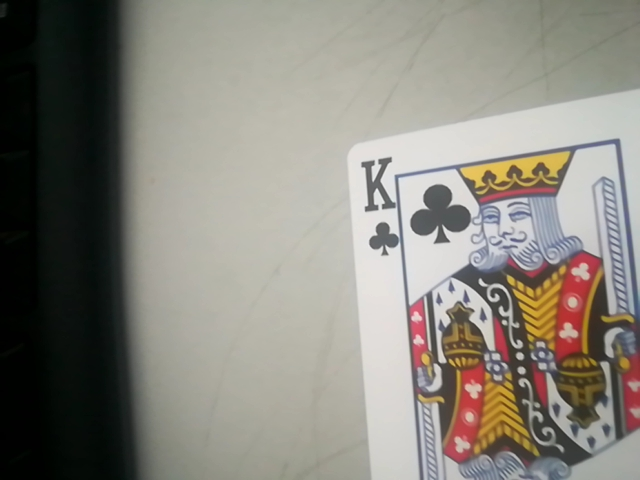mh k: (345, 72, 640, 480)
